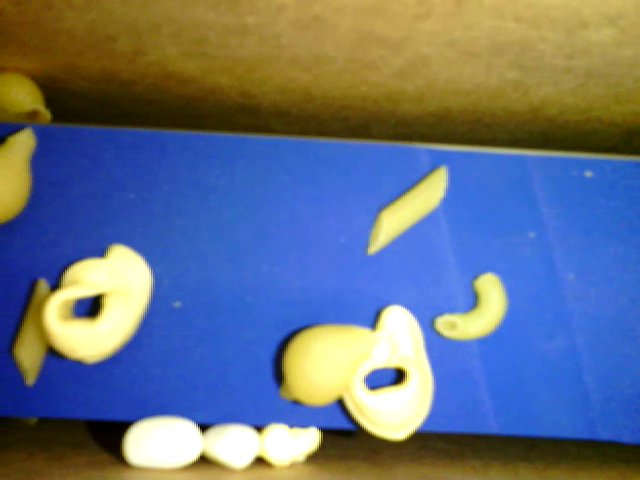elbow: (432, 270, 508, 339)
penne: (369, 161, 449, 253), (8, 275, 52, 387)
shell: (277, 323, 379, 406), (1, 126, 40, 228), (2, 69, 56, 124)
tortellini: (42, 241, 153, 364), (350, 301, 432, 443)
